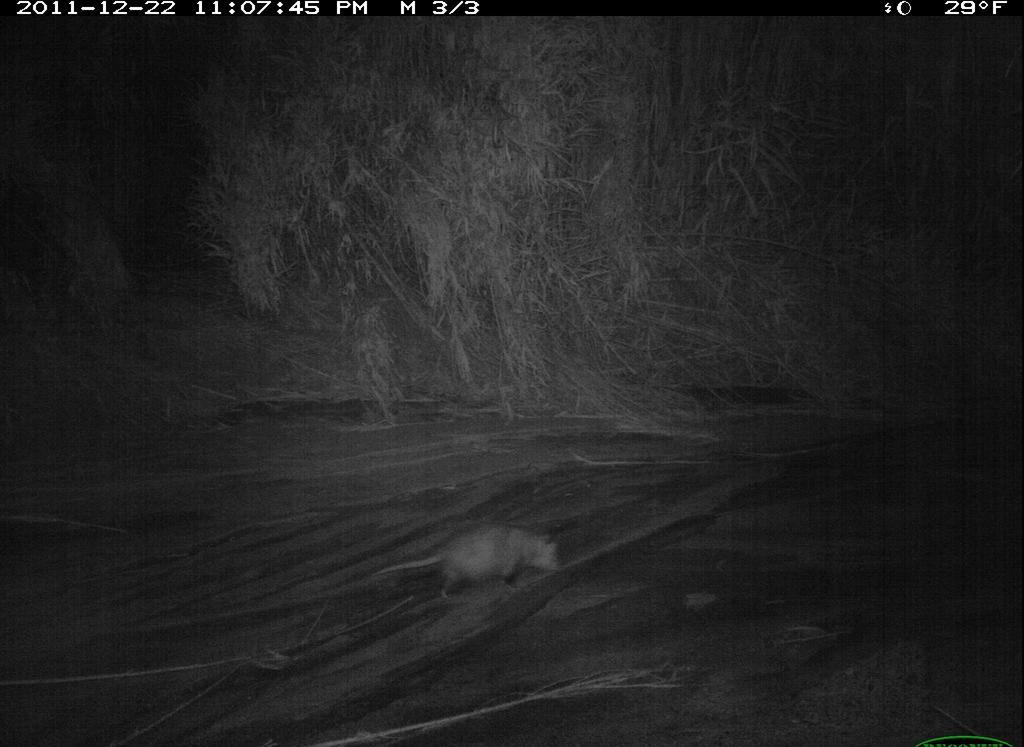opossum: (373, 523, 570, 609)
